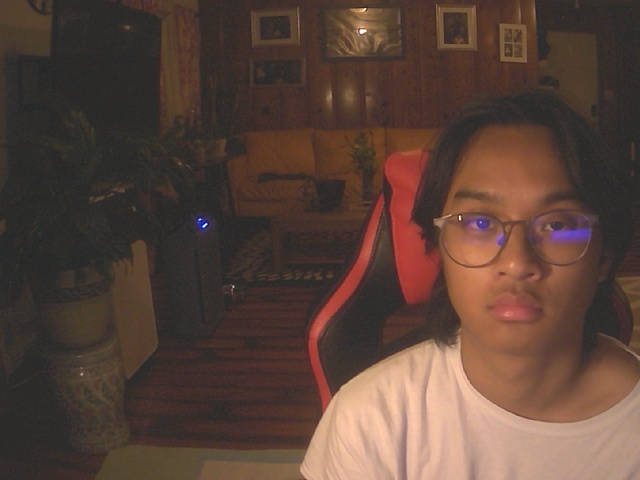neutral: (409, 87, 637, 355)
